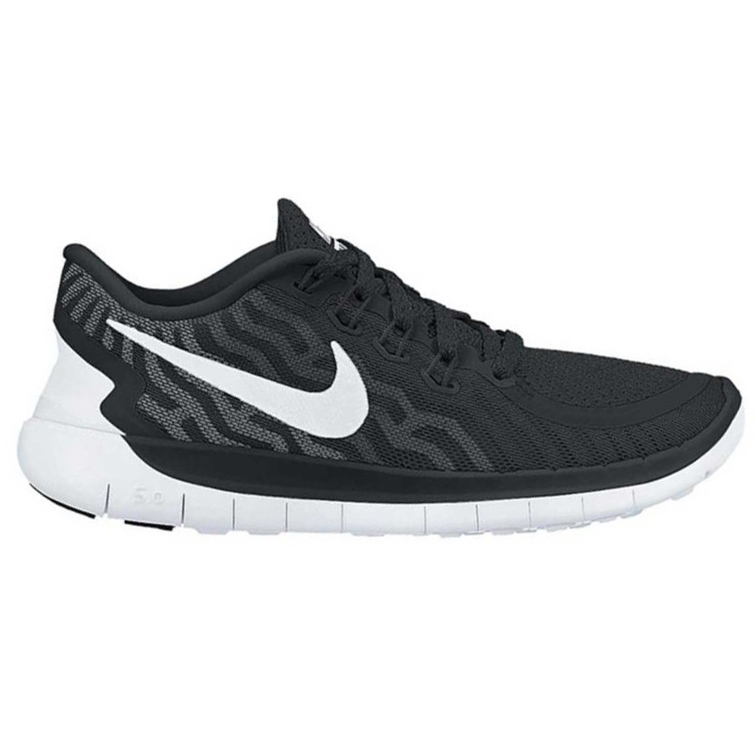Nike: (101, 313, 376, 445)
